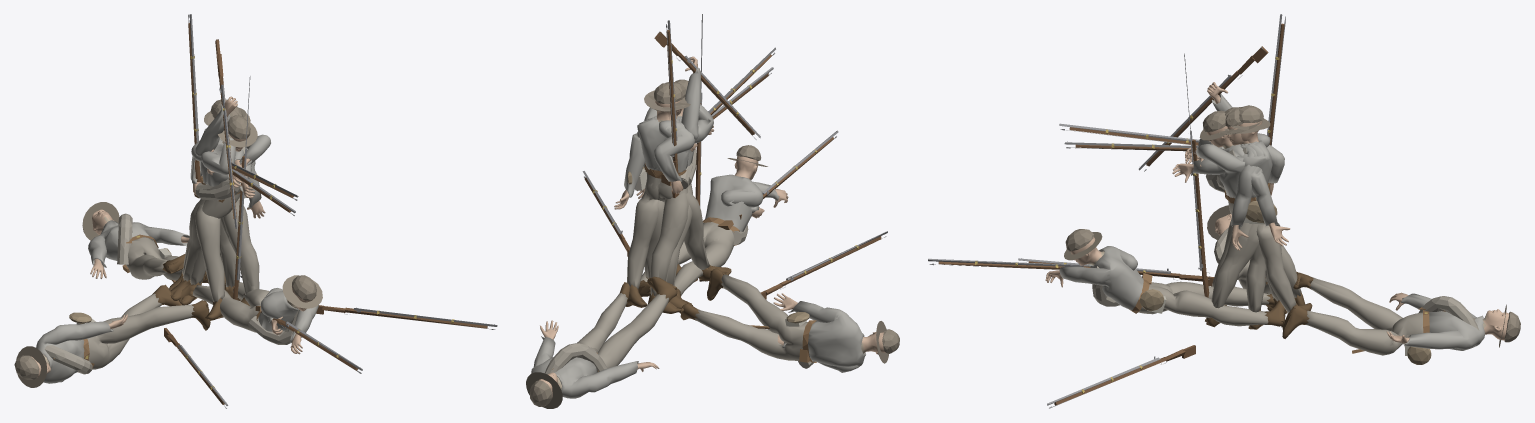
File: csa_a_mid.fbx
3 renders of one model, left to right at view 1: azimuth 30°, elevation 25°; view 2: azimuth 150°, elevation 25°; view 3: azimuth 270°, elevation 25°, orthographic. The views are drawn at different scales.
Parts seen in each view (by area): view 1: pose_fallen_side, pose_melee, pose_fallen_back, pose_prone_fire, pose_reload_rod, pose_march_a, pose_march_b, pose_fire, pose_aim; view 2: pose_fallen_side, pose_fallen_back, pose_prone_fire, pose_march_b, pose_march_a, pose_melee, pose_fire, pose_reload_rod, pose_aim; view 3: pose_fallen_back, pose_prone_fire, pose_melee, pose_march_a, pose_march_b, pose_aim, pose_reload_rod, pose_fire, pose_fallen_side.
Part boxes in pixels (bbox=[...]): pose_fallen_side: bbox=[14, 284, 497, 387]; pose_melee: bbox=[170, 39, 270, 300]; pose_fallen_back: bbox=[82, 202, 228, 408]; pose_prone_fire: bbox=[181, 271, 362, 373]; pose_reload_rod: bbox=[179, 76, 254, 305]; pose_march_a: bbox=[169, 14, 265, 305]; pose_march_b: bbox=[190, 113, 239, 320]; pose_fire: bbox=[191, 99, 298, 278]; pose_aim: bbox=[184, 107, 295, 282]; pose_fallen_side: bbox=[582, 171, 899, 372]; pose_fallen_back: bbox=[526, 231, 887, 408]; pose_prone_fire: bbox=[639, 130, 838, 313]; pose_march_b: bbox=[614, 105, 731, 307]; pose_march_a: bbox=[627, 20, 694, 313]; pose_melee: bbox=[642, 31, 760, 309]; pose_fire: bbox=[637, 47, 775, 268]; pose_reload_rod: bbox=[645, 14, 711, 304]; pose_aim: bbox=[627, 67, 773, 281]; pose_fallen_back: bbox=[1018, 258, 1520, 364]; pose_prone_fire: bbox=[928, 229, 1285, 327]; pose_melee: bbox=[1138, 46, 1268, 327]; pose_march_a: bbox=[1205, 14, 1305, 322]; pose_march_b: bbox=[1211, 119, 1312, 313]; pose_aim: bbox=[1064, 107, 1283, 329]; pose_reload_rod: bbox=[1172, 53, 1286, 329]; pose_fire: bbox=[1059, 105, 1296, 301]; pose_fallen_side: bbox=[1047, 205, 1271, 408].
Size of the model in its own units: 3.3 by 2.56 by 4.1.
